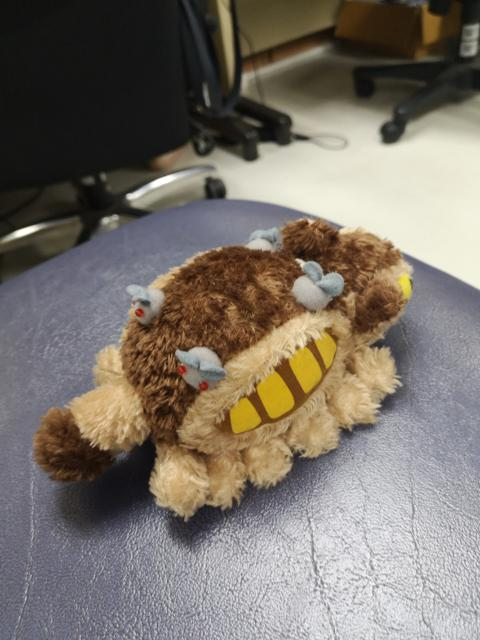nekobus: (27, 211, 421, 531)
